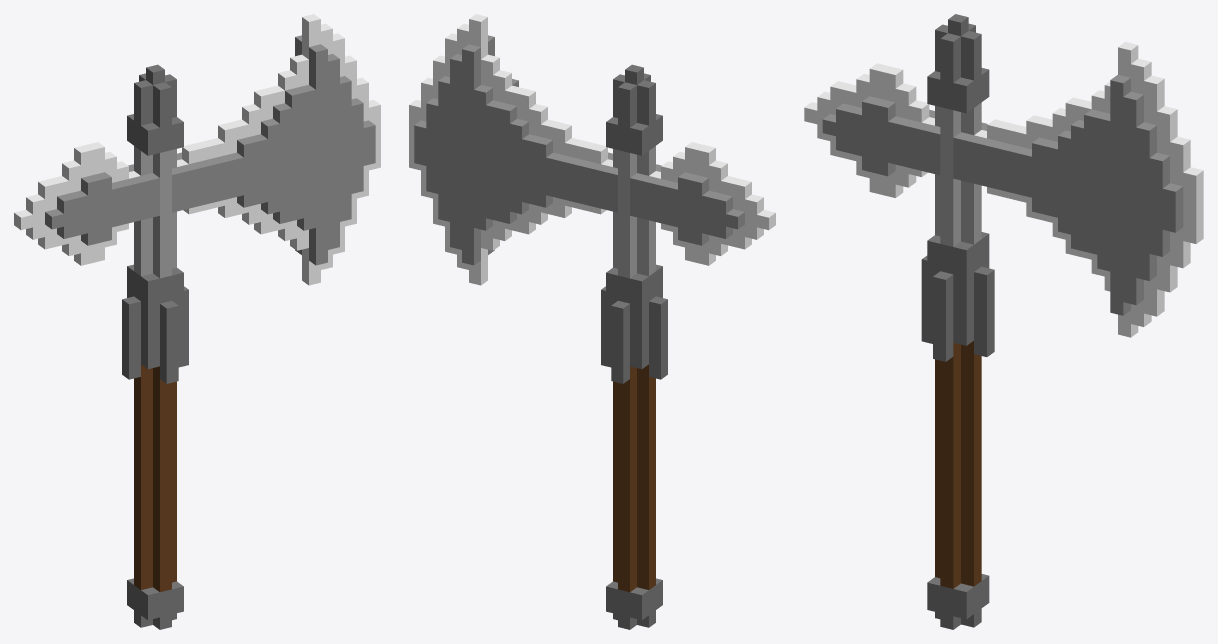
File: axe.obj
3 views of the same model, side by side, from view 1: azimuth 30°, elevation 25°; view 2: azimuth 150°, elevation 25°; view 3: azimuth 330°, elevation 25° (orthographic). The views are drawn at different scales.
Bounding box in the file's own units: 3 × 4.5 × 0.5.
Materials: 1 (1 with a texture image).
